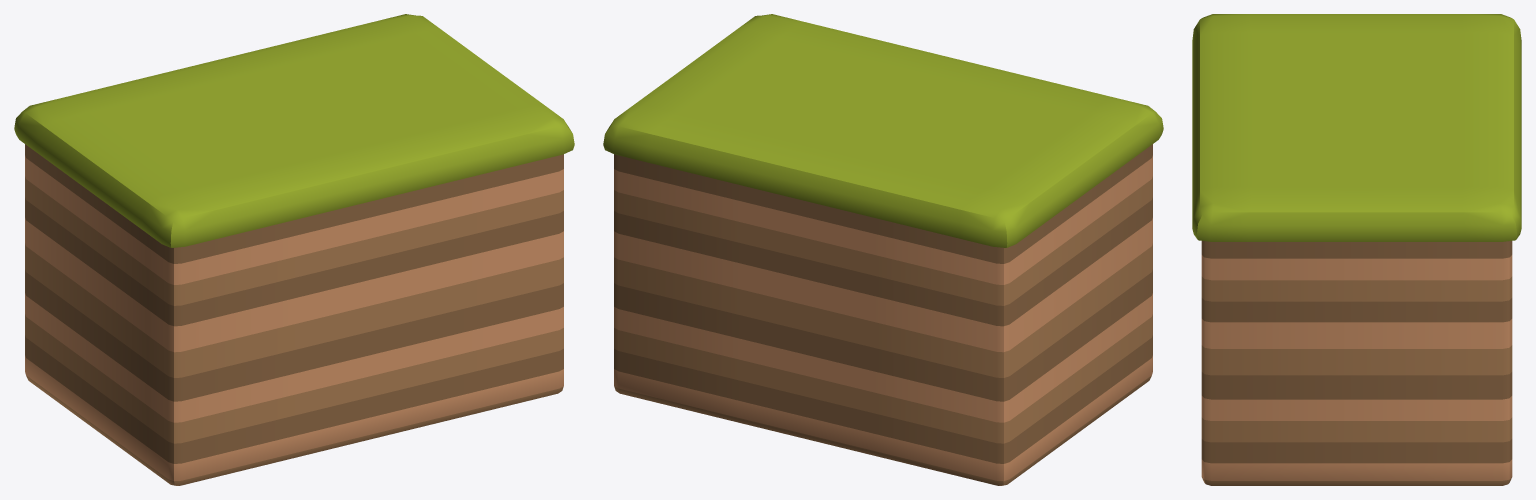
Rendered from Cube_Grass_Side_Tall.015.fbx.
3 renders of one model, left to right at view 1: azimuth 30°, elevation 25°; view 2: azimuth 150°, elevation 25°; view 3: azimuth 270°, elevation 25°, orthographic. The views are drawn at different scales.
Visible parts, largest first — view 1: Cube_Grass_Side_Tall.015; view 2: Cube_Grass_Side_Tall.015; view 3: Cube_Grass_Side_Tall.015.
Part boxes in pixels (x1,y1,x2,y2): Cube_Grass_Side_Tall.015: (14,14,574,485); Cube_Grass_Side_Tall.015: (603,14,1163,485); Cube_Grass_Side_Tall.015: (1192,14,1521,485).
Size of the model in its own units: 623 by 400 by 423.
